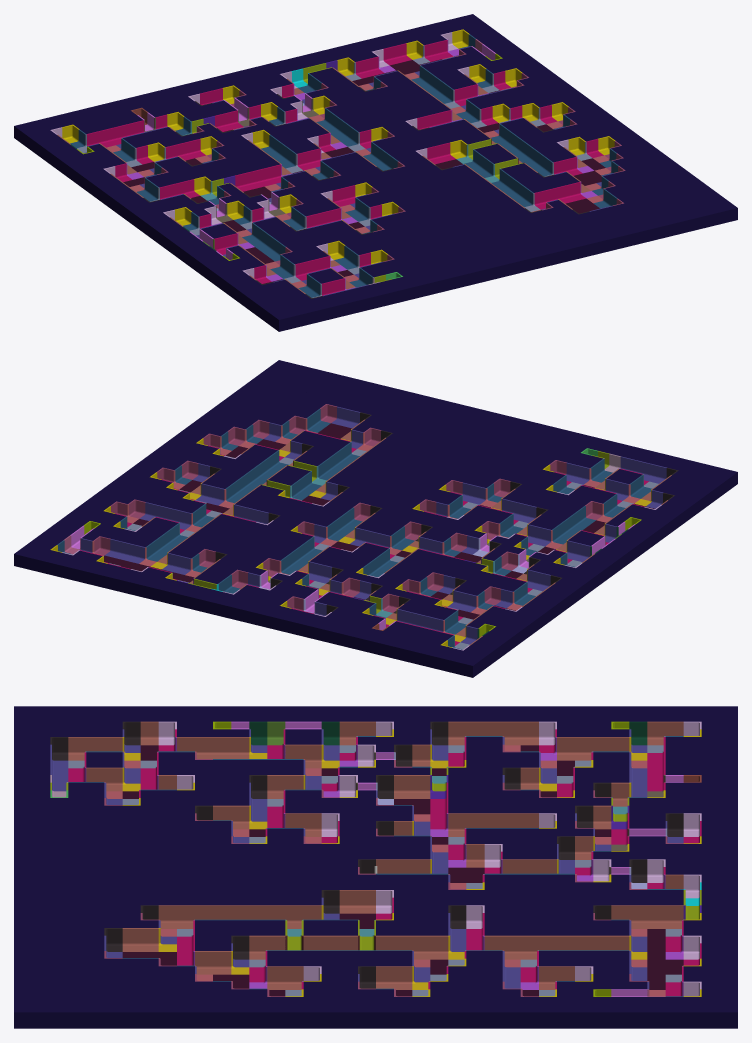
File: DungeonFloorExport_noAddOn.fbx
3 renders of one model, top to bottom at view 1: azimuth 30°, elevation 25°; view 2: azimuth 150°, elevation 25°; view 3: azimuth 270°, elevation 25°, orthographic. The views are drawn at different scales.
Parts seen in each view (by area): view 1: transform5; view 2: transform5; view 3: transform5.
Boxes of the visible parts, box(x1,y1,x2,y2) form: transform5: box(14, 14, 737, 331); transform5: box(14, 360, 737, 677); transform5: box(14, 706, 737, 1028).
Bounding box in the file's own units: 1200 × 49.5 × 1200.
